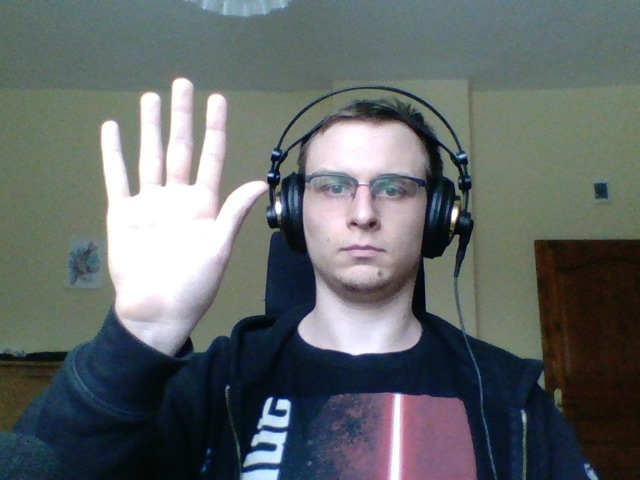hello: (95, 74, 274, 374)
